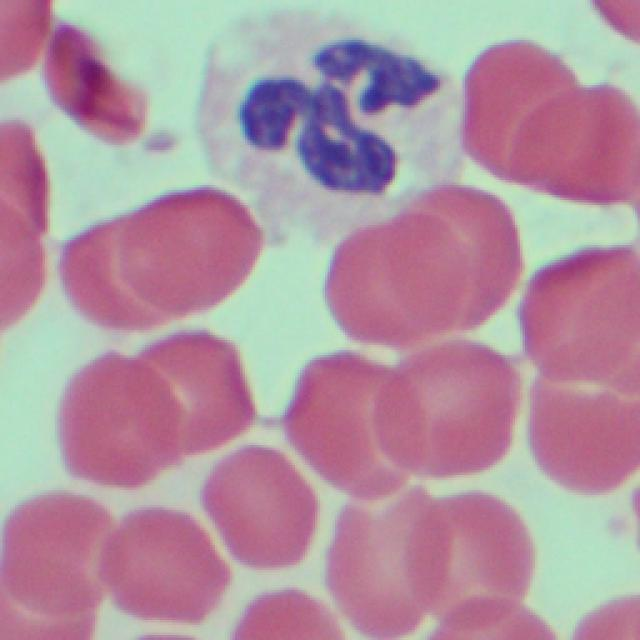RBC: (519, 220, 638, 506), (456, 18, 640, 194), (54, 178, 258, 336), (329, 464, 466, 638), (54, 333, 185, 492), (378, 333, 517, 477), (92, 475, 222, 628), (375, 191, 524, 322), (405, 484, 528, 640), (291, 346, 419, 492), (328, 224, 479, 347), (0, 488, 111, 640), (202, 441, 316, 572), (37, 22, 154, 137), (227, 588, 347, 640), (0, 0, 53, 86)
WBC: (210, 9, 451, 214)
